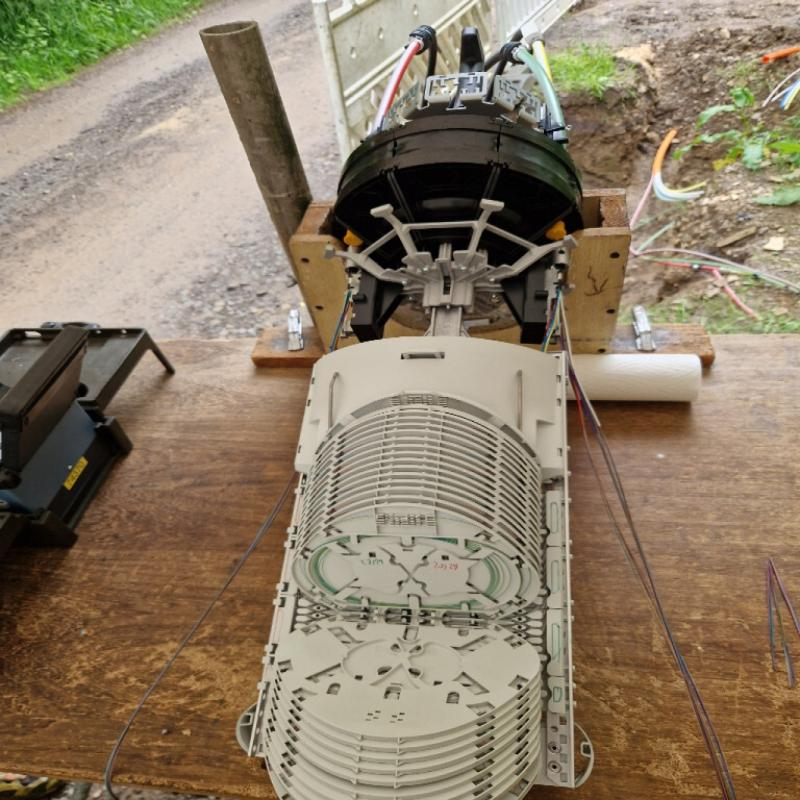NT-Muffen: (234, 61, 586, 800)
